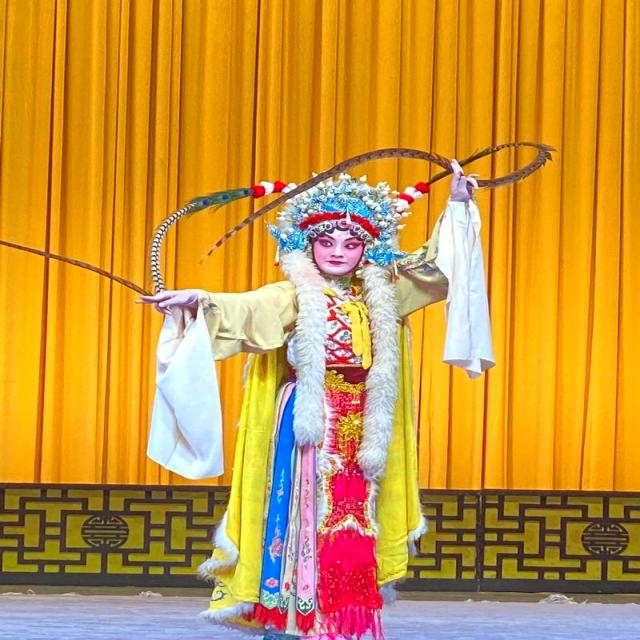Reeves-s Pheasant: (150, 148, 449, 290), (0, 241, 138, 292), (464, 142, 550, 188)
